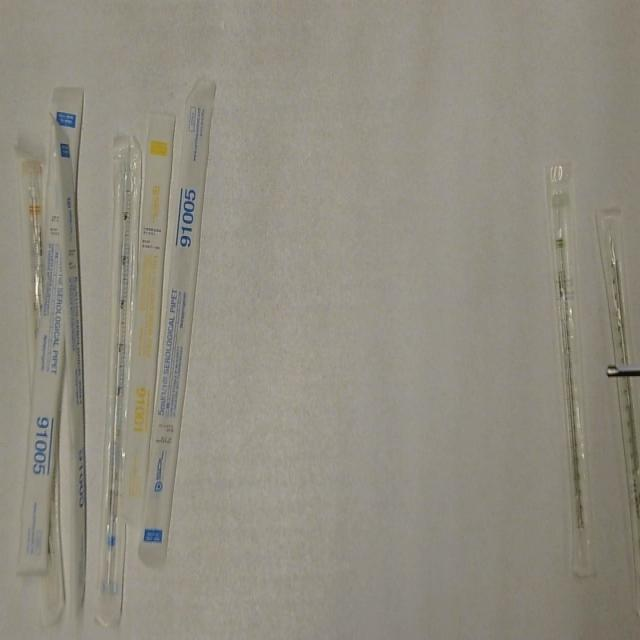Serelogical Pipet 1 mL - Sealed: (116, 107, 180, 531)
Serelogical Pipet 10 mL - Sealed: (14, 140, 51, 377)
Serelogical Pipet 2 mL - Sealed: (545, 158, 598, 585)
Serelogical Pipet 5 mL - Sealed: (135, 78, 221, 570), (17, 85, 87, 582), (92, 134, 145, 628), (49, 109, 90, 612)
